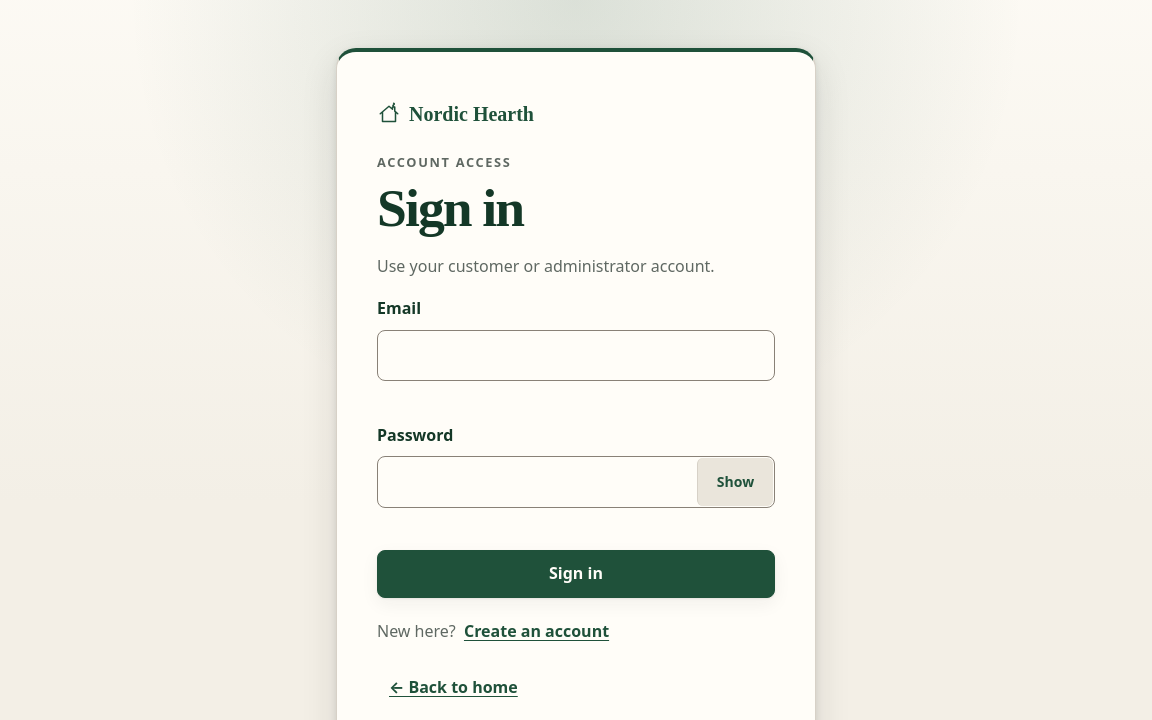
Test: administrator authentication routes and guard › returns a super-admin to the safe users destination after login
The image size is (1152, 720).
In the field labelled "Email": coordinates (576, 355) [377,330,775,381], type "admin@example.test"
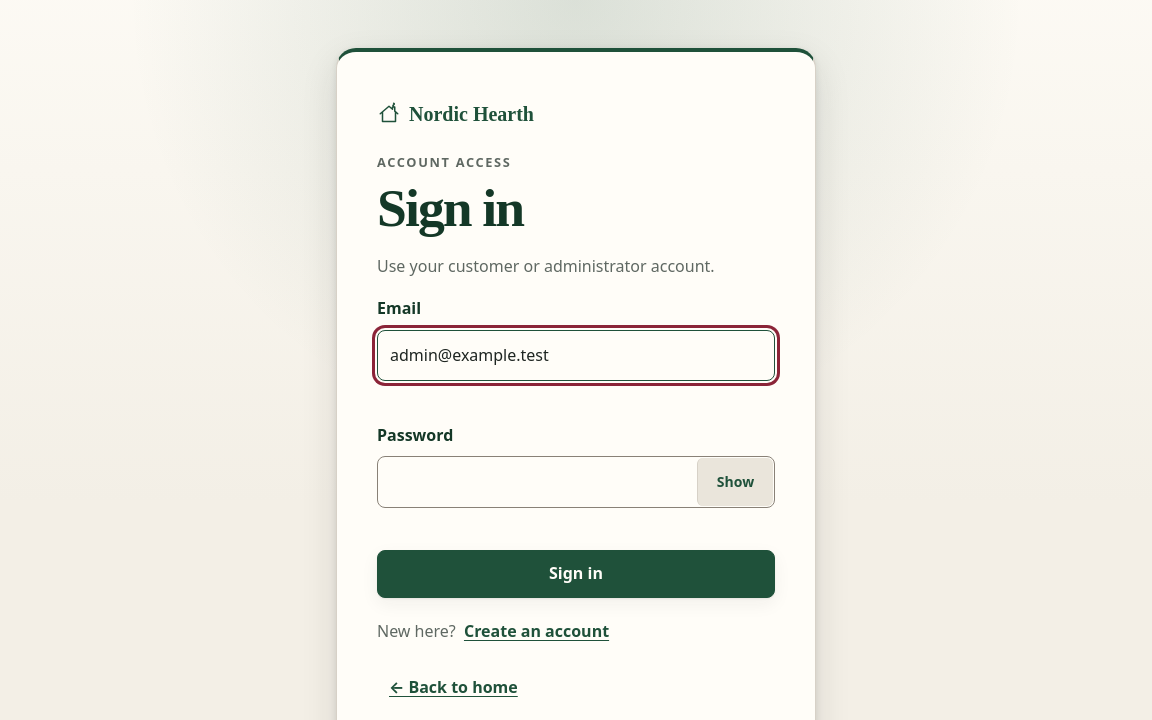
In the password field labelled "Password": coordinates (576, 482) [377,456,775,508], type "synthetic password"
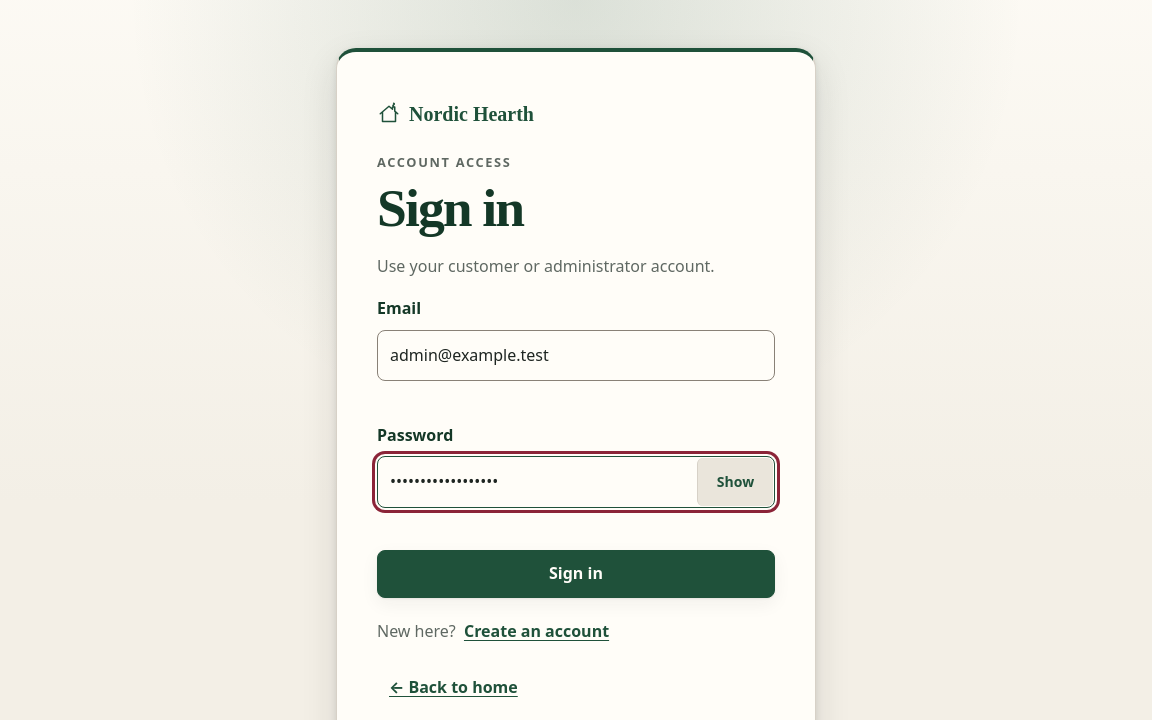
Click the button "Sign in": coordinates (576, 574) [377,550,775,598]
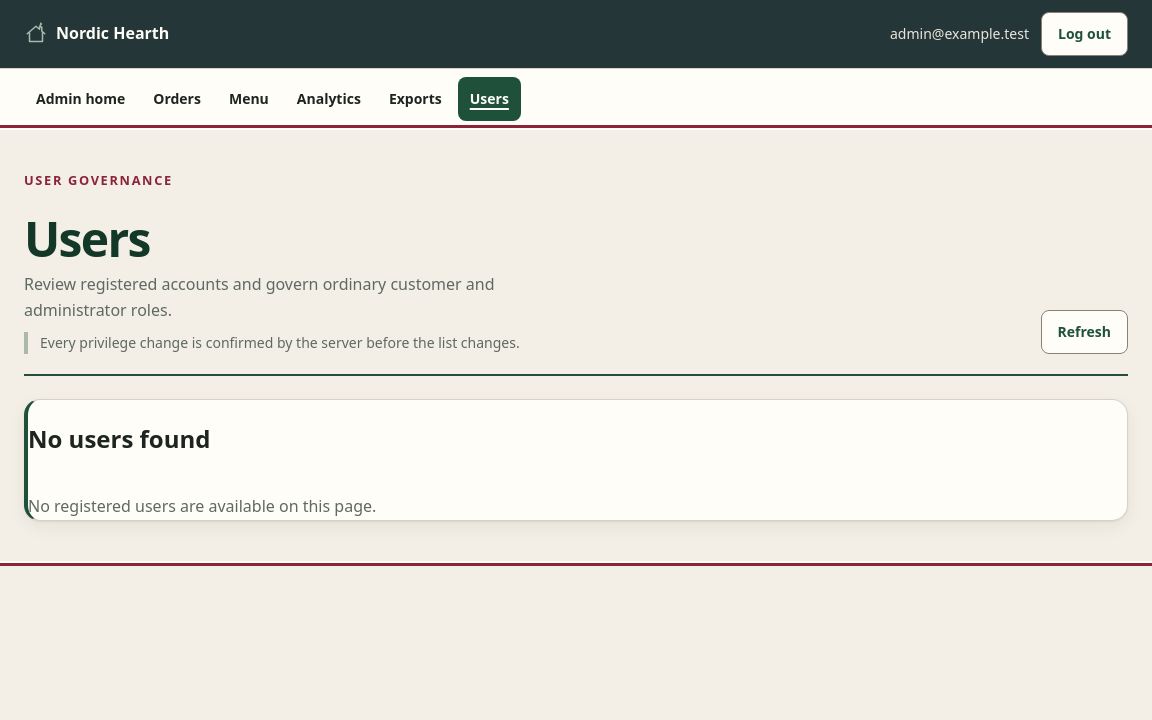
Expected: the heading "Users" is shown, [24,206,150,272]
